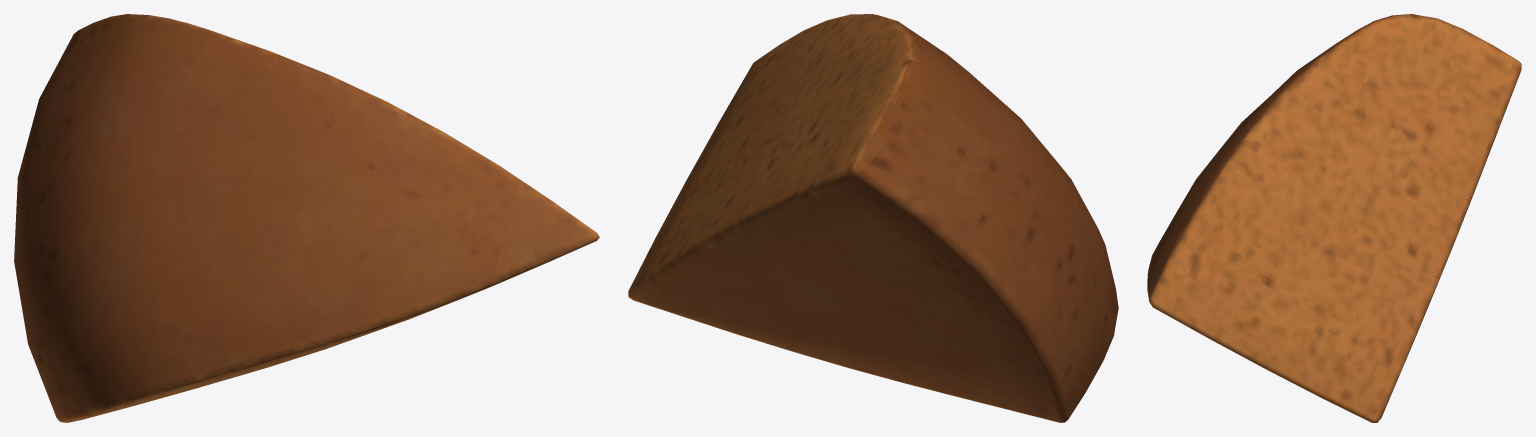
Rendered from ref_bffagao.glb.
3 renders of one model, left to right at view 1: azimuth 30°, elevation 25°; view 2: azimuth 150°, elevation 25°; view 3: azimuth 270°, elevation 25°, orthographic. The views are drawn at different scales.
Parts seen in each view (by area): view 1: ref_bffagao; view 2: ref_bffagao; view 3: ref_bffagao.
Part boxes in pixels (x1,y1,x2,y2): ref_bffagao: [14, 14, 599, 422]; ref_bffagao: [628, 14, 1118, 422]; ref_bffagao: [1147, 14, 1521, 422].
Size of the model in its own units: 1 by 0.7732 by 0.8448.
1 material, 1 textured.
